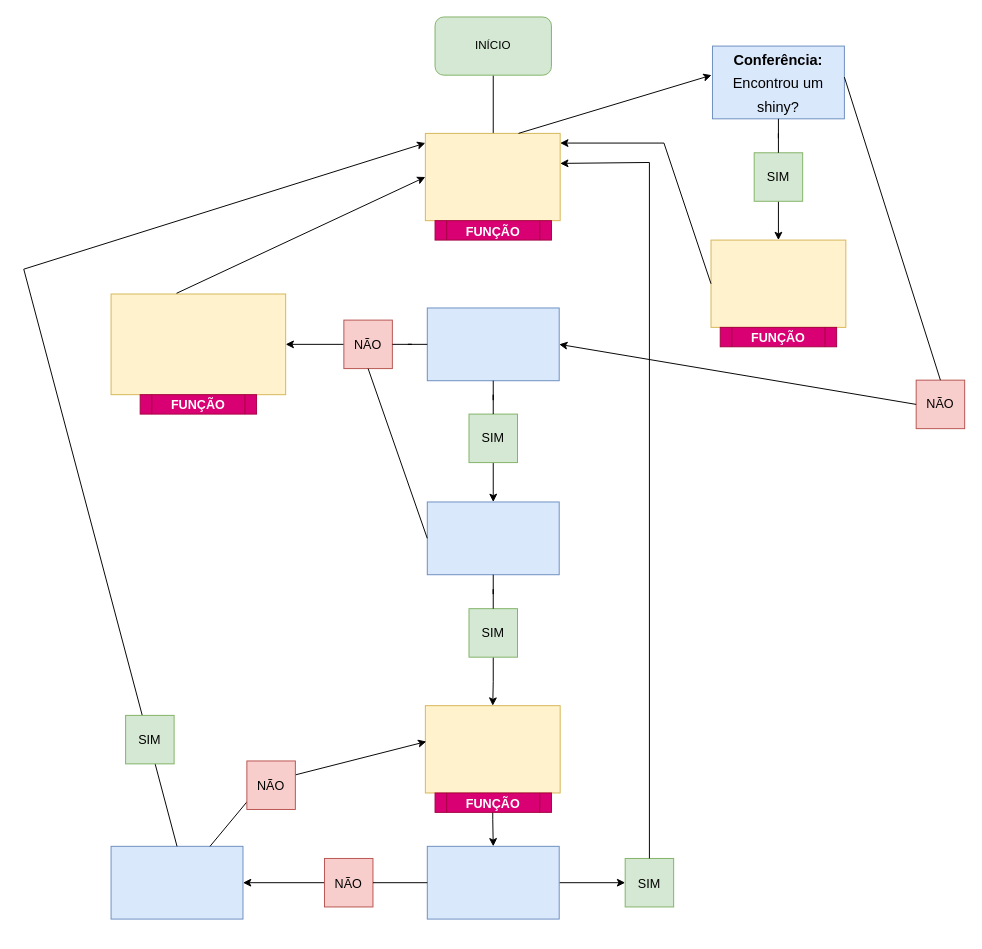
Some shapes in this 982 by 949 pixel diagram are drawn without their labels. Here are the shapes that lost their labels. From the top down, the centre of each, then its label:
At pixel 492 176: "Andar nos matinhos até encontrar um Pokémon".
At pixel 778 283: "Tampa masterball nele".
At pixel 198 344: "Mover o mouse para a posição do RUN e clicar, aguardar o tempo de sair da tela".
At pixel 492 344: "Conferência: É um abra?".
At pixel 492 538: "Conferência: Tem a habilidade syncronize?".
At pixel 492 749: "Tampa pokeball nele".
At pixel 176 882: "Conferência: Pokemon fugiu?".
At pixel 492 882: "Conferência: Pokebola pegou?".
